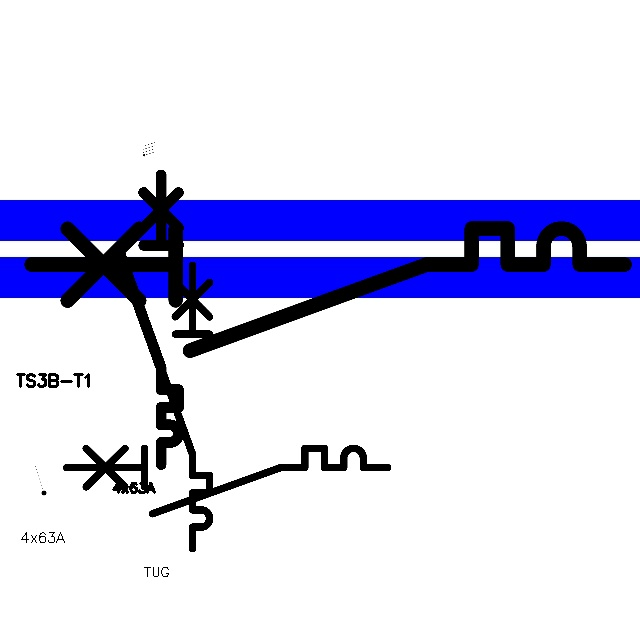interruptor_termomagnetico: (16, 213, 640, 365), (58, 440, 396, 522), (112, 167, 186, 471), (144, 258, 217, 556)
